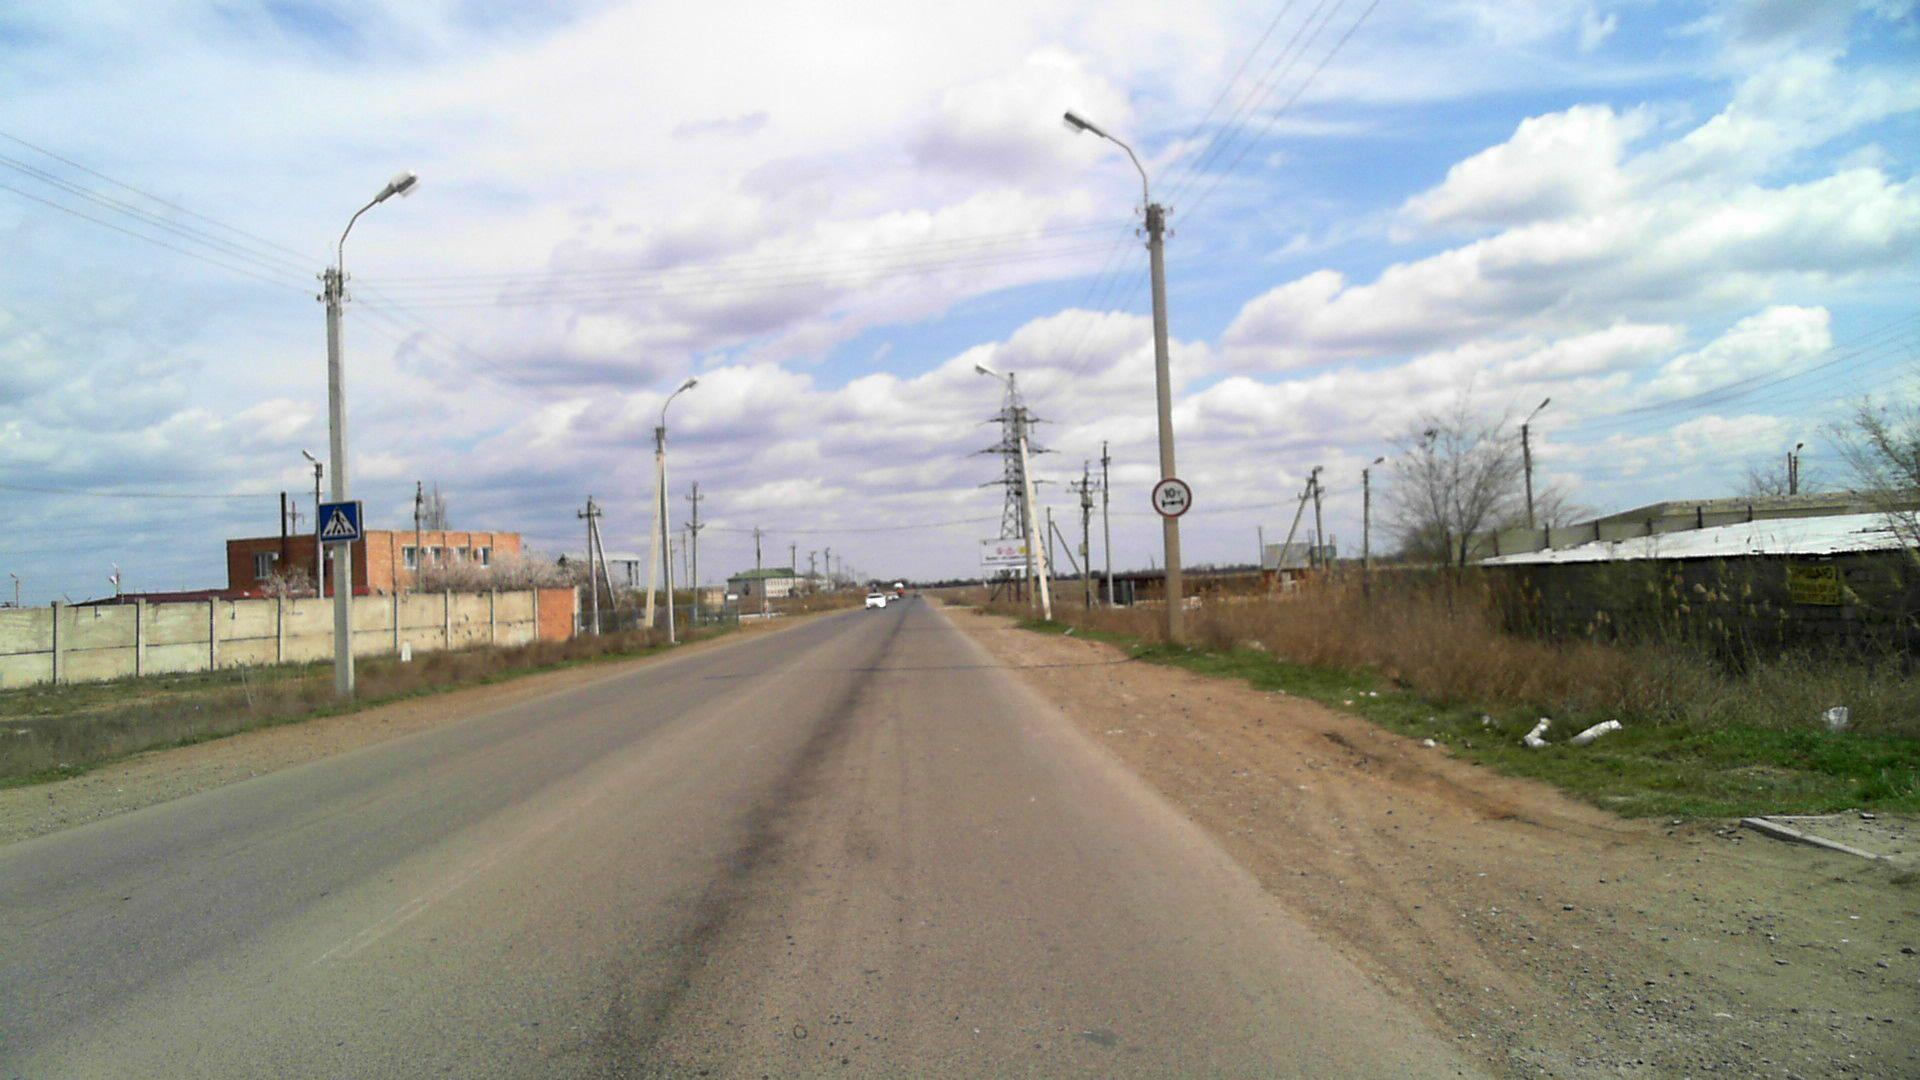3_12: (1152, 476, 1192, 518)
5_19_2: (320, 500, 364, 542)
